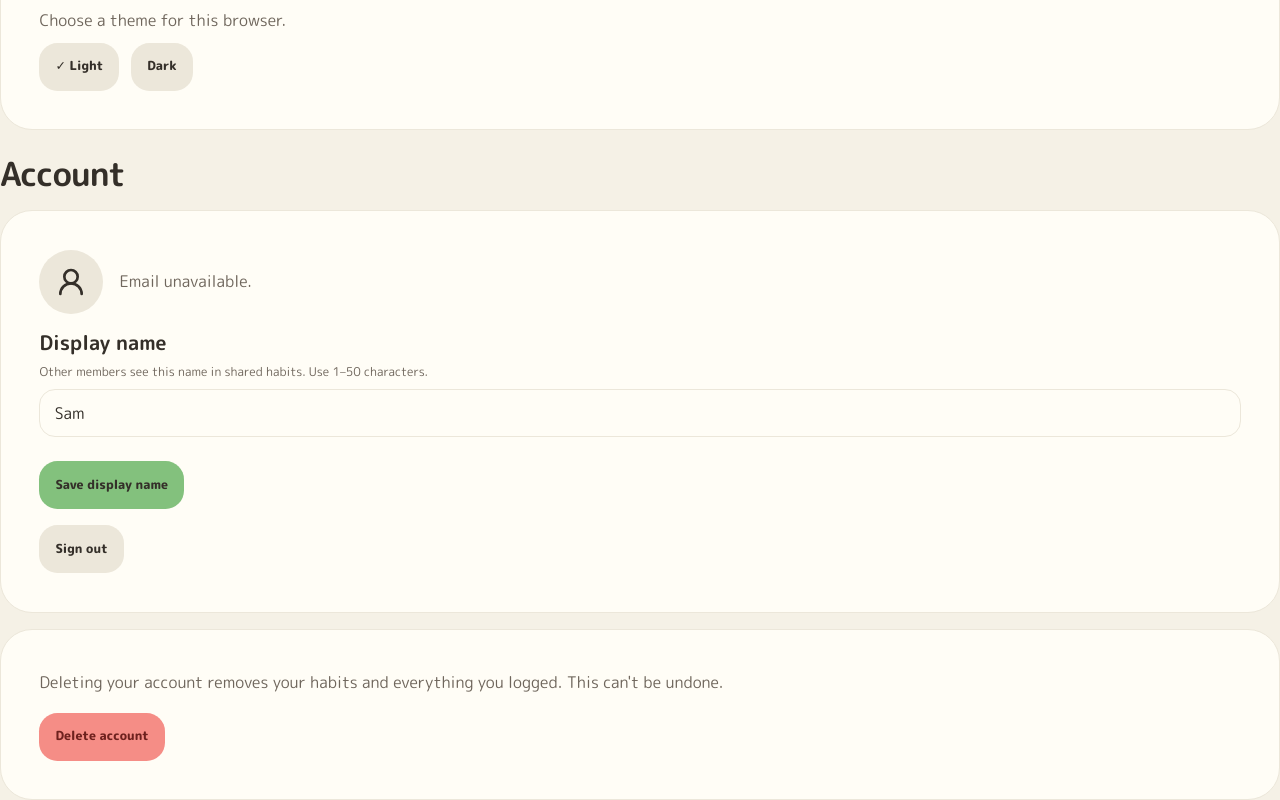
it: delete account › shows an Account section with the delete button and lists what is deleted
(page scrolled)
Click the button "Delete account": click(102, 737) [39, 713, 165, 761]
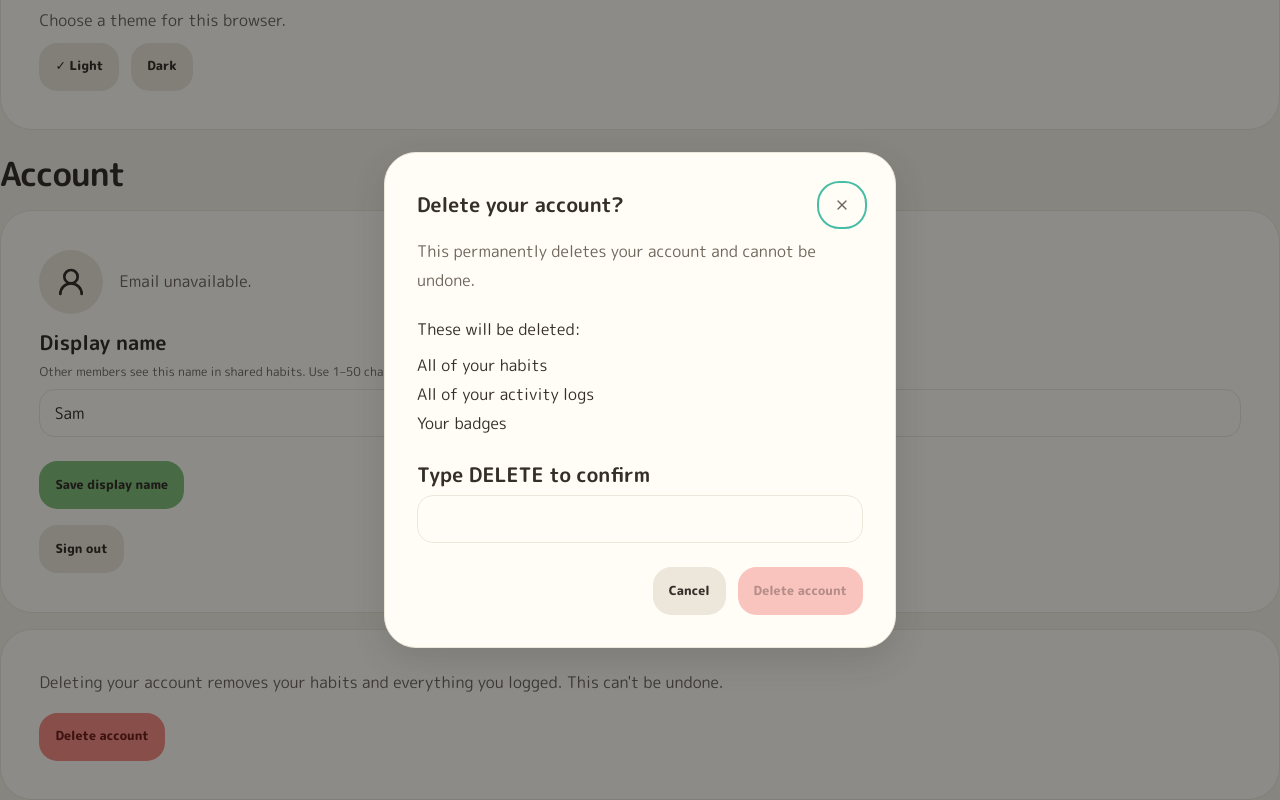
Now the dialog shows "habits", box [417, 354, 547, 376]
Now the dialog shows "activity logs", box [417, 383, 594, 405]
Now the dialog shows "badges", box [417, 412, 507, 434]
